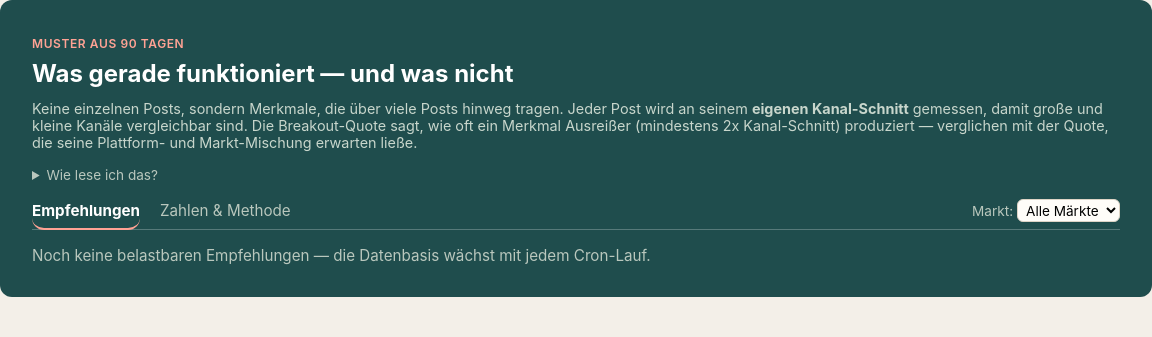
it: PatternsBlock — Flag-Gate und Bericht › sagt es ehrlich, wenn kein Muster belastbar ist
Click the button "Zahlen & Methode" at (225, 215), box [160, 201, 291, 230]
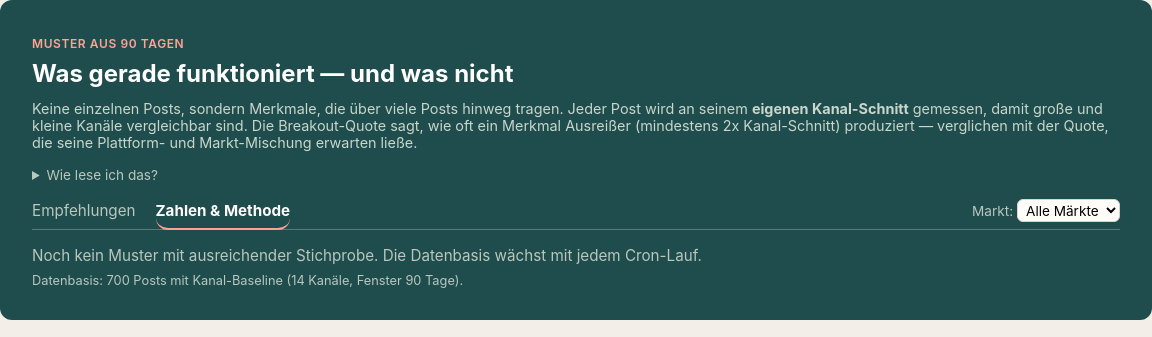
Expected: the text "Noch kein Muster mit ausreichender Stichprobe" is shown, [32, 246, 702, 265]
